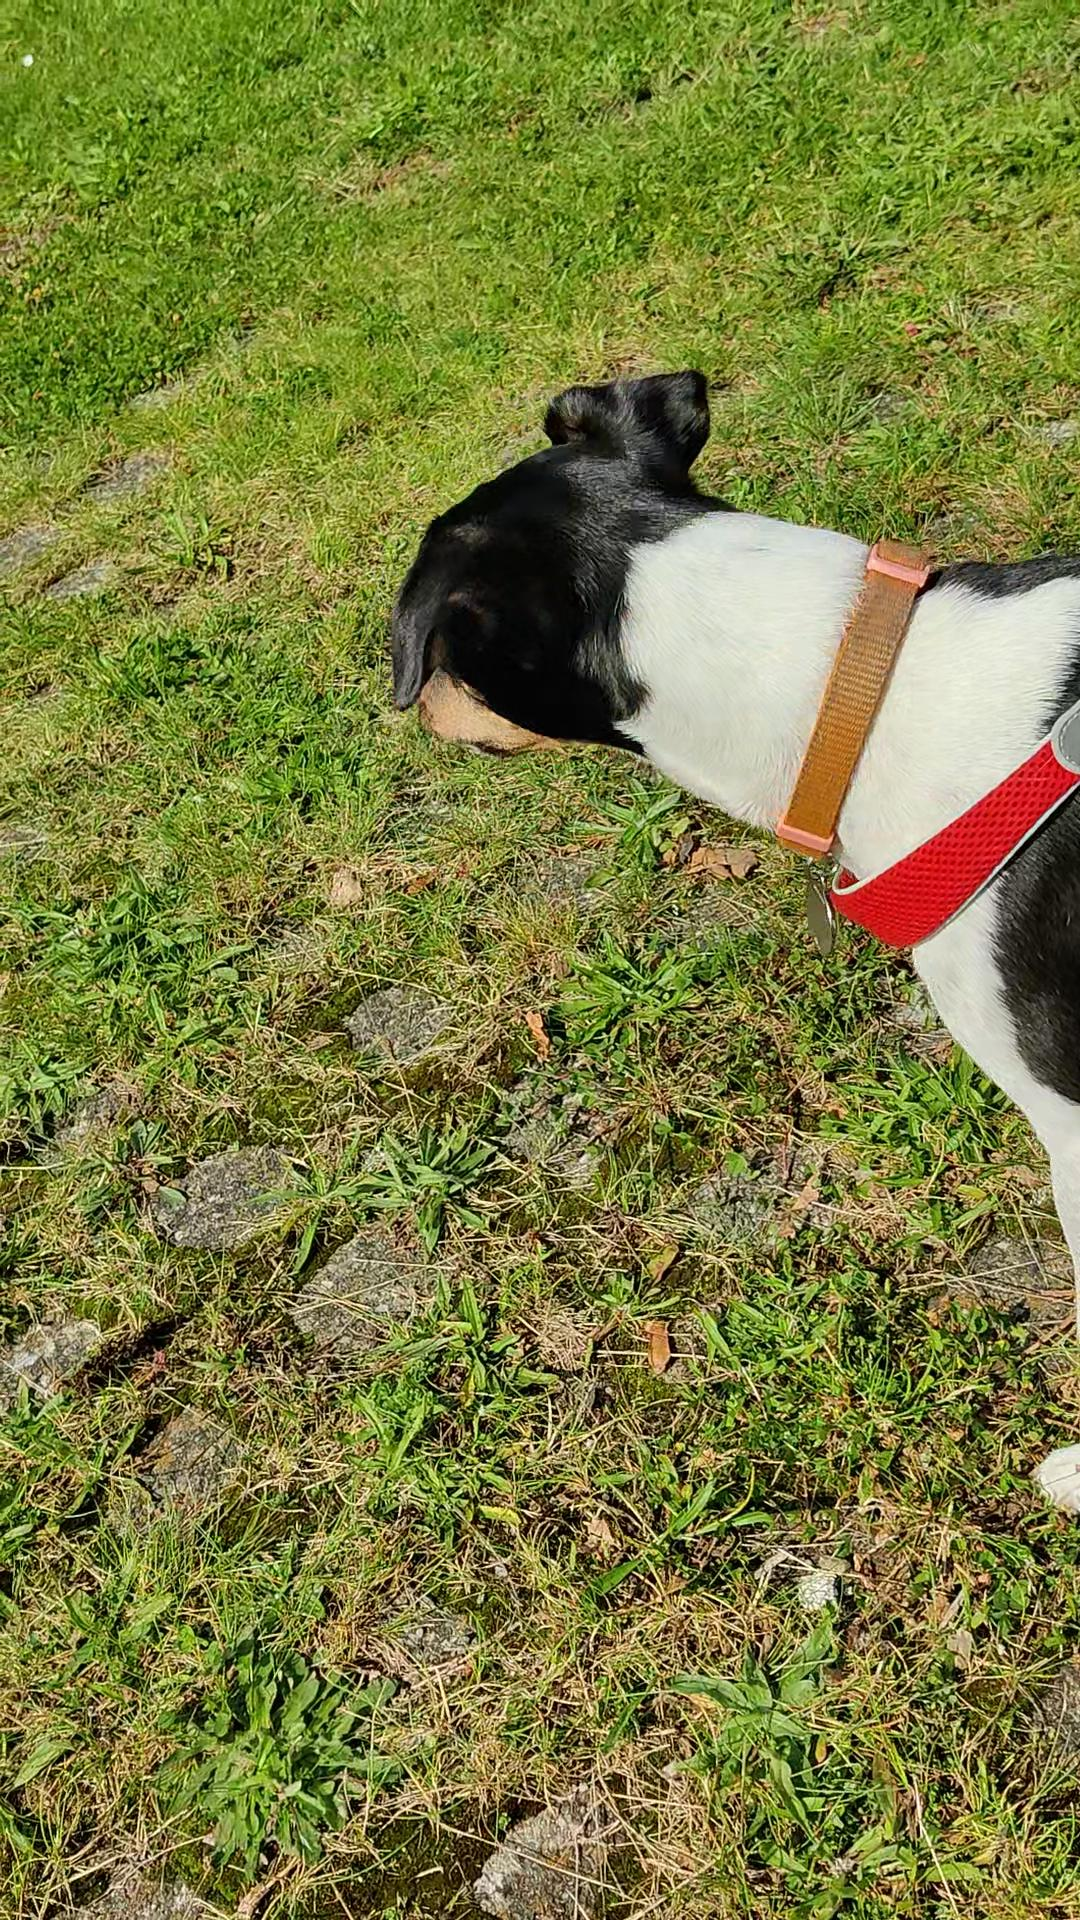Dog: (345, 328, 1079, 1523)
